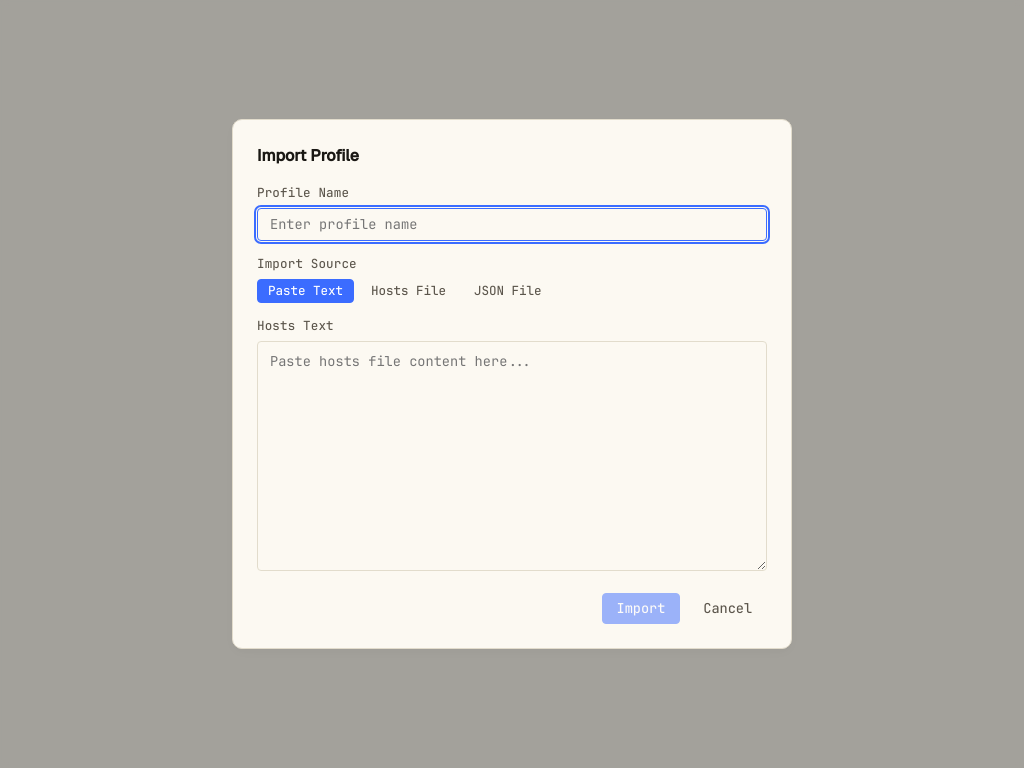
Test: ImportDialog › shows errors for invalid hosts text
In the field labelled "Profile Name": x=512, y=224 [257, 208, 767, 241], type "bad-import"
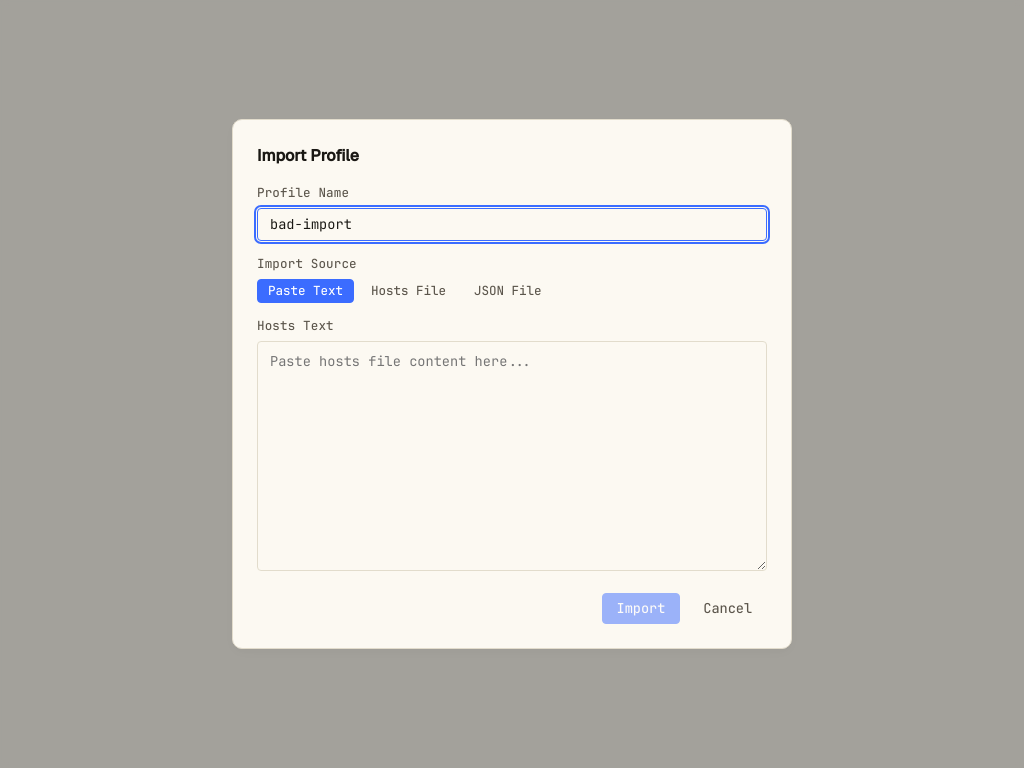
In the text box with placeholder "Paste hosts file content here...": x=512, y=456 [257, 341, 767, 571], type "invalid-line"
Wait 350 ms
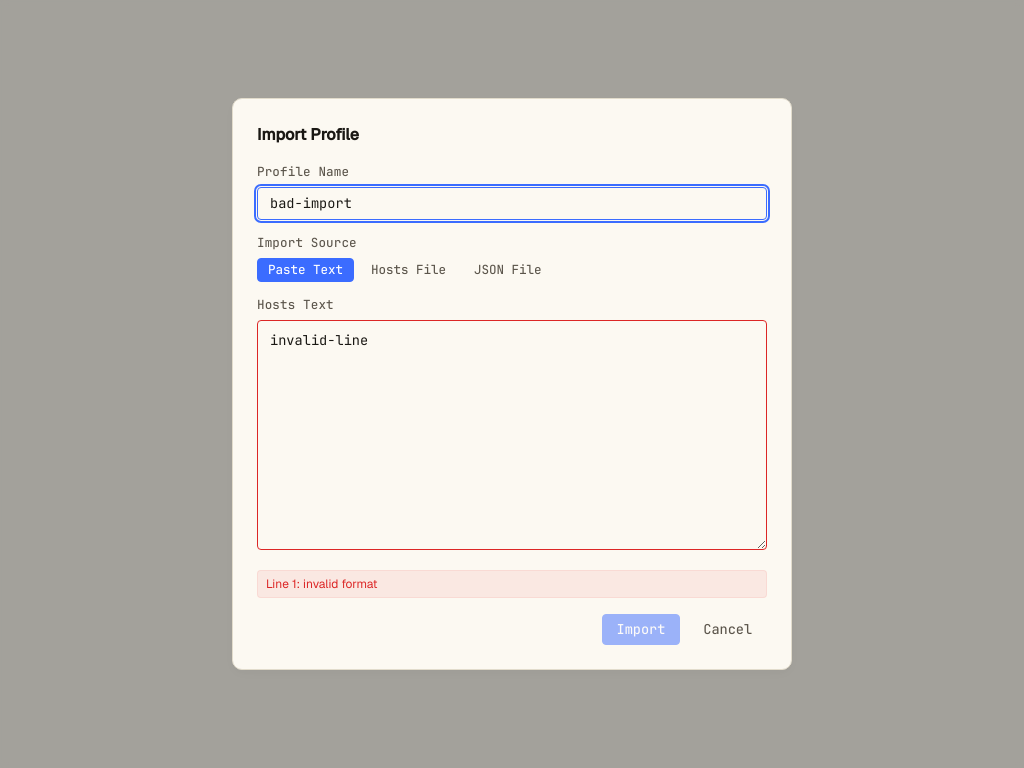
Expected: the button "Import" is disabled, [602, 614, 680, 645]
Expected: the text "Line 1: invalid format" is shown, [257, 570, 767, 598]
